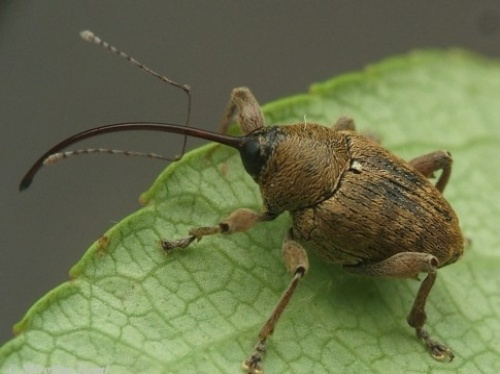dolgonosik: (20, 30, 466, 371)
